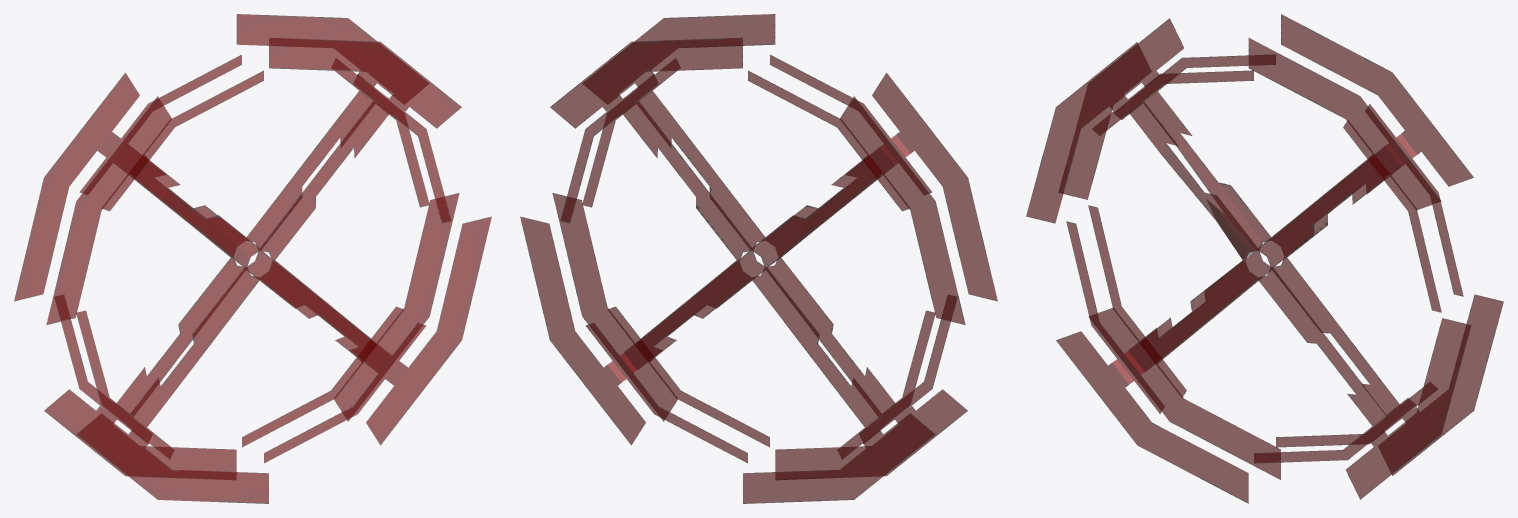
The model's file is NTX_01.glb.
The picture shows the model from 3 angles, left to right: view 1: azimuth 30°, elevation 25°; view 2: azimuth 150°, elevation 25°; view 3: azimuth 330°, elevation 25°; orthographic projection.
Bounding box in the file's own units: 0.1076 × 0.1076 × 0.0135.
1 material, 1 textured.
